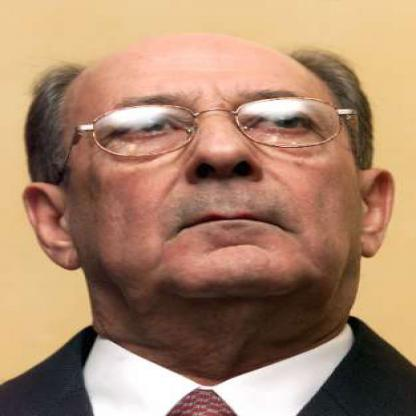face: (55, 35, 374, 318)
